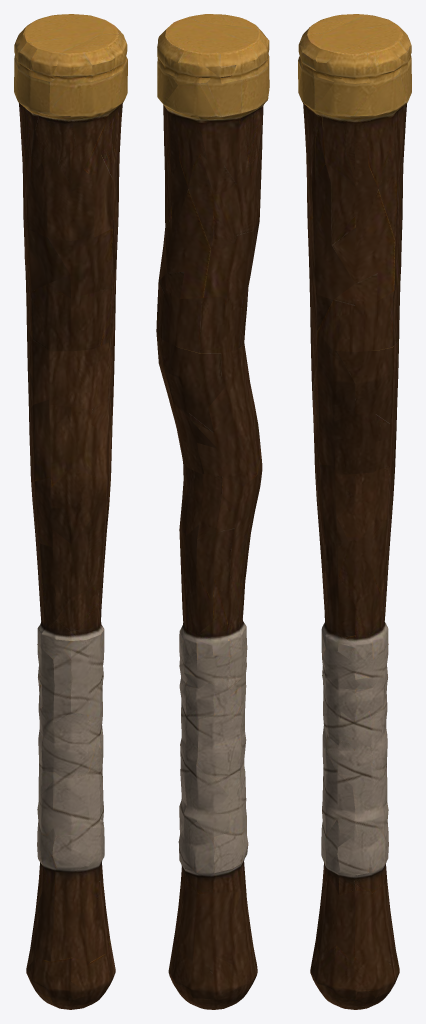
Rendered from acolyte_wand.glb.
3 renders of one model, left to right at view 1: azimuth 90°, elevation 25°; view 2: azimuth 210°, elevation 25°; view 3: azimuth 270°, elevation 25°, orthographic.
Size of the model in its own units: 0.1041 by 0.9661 by 0.1025.
1 material, 1 textured.
